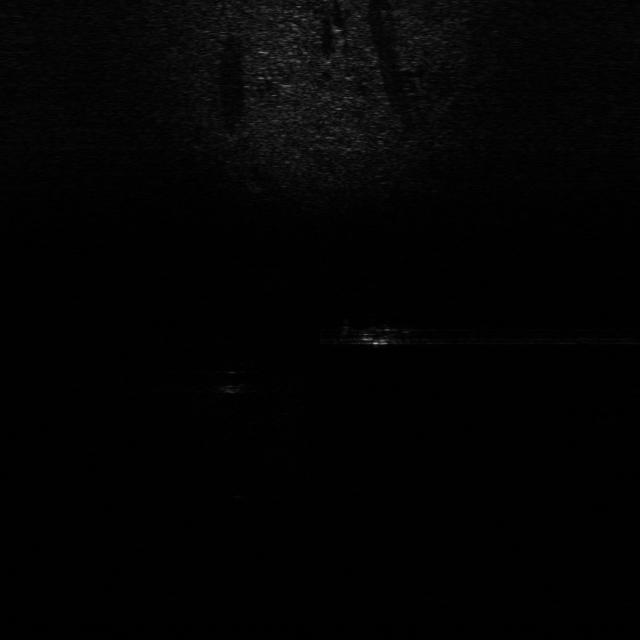ball: (209, 364, 257, 392)
human body: (320, 316, 426, 354)
